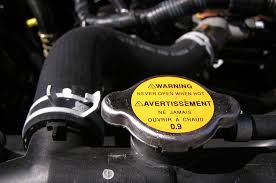radiator_hose: (24, 19, 229, 145)
